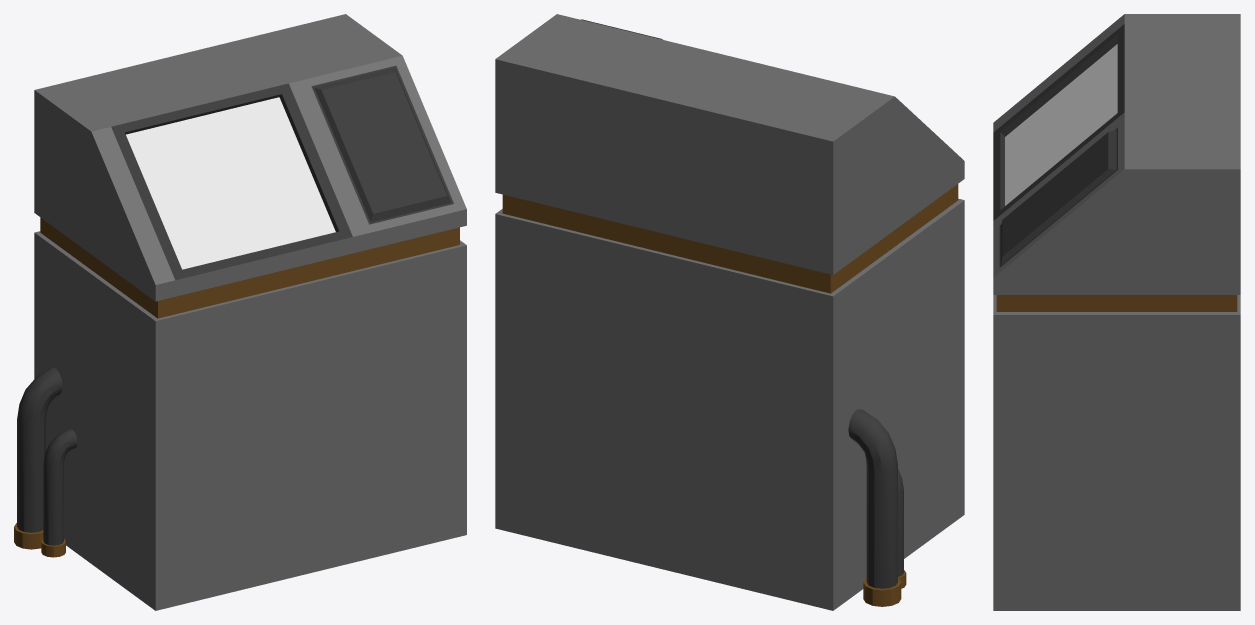
Rendered from console.fbx.
The picture shows the model from 3 angles, left to right: view 1: azimuth 30°, elevation 25°; view 2: azimuth 150°, elevation 25°; view 3: azimuth 270°, elevation 25°; orthographic projection. The views are drawn at different scales.
Parts seen in each view (by area): view 1: Console; view 2: Console; view 3: Console.
Part boxes in pixels (left/top/right/bottom): Console: left=14, top=14, right=466, bottom=610; Console: left=495, top=14, right=964, bottom=610; Console: left=993, top=14, right=1240, bottom=610.
Bounding box in the file's own units: 90.08 × 53.91 × 106.
